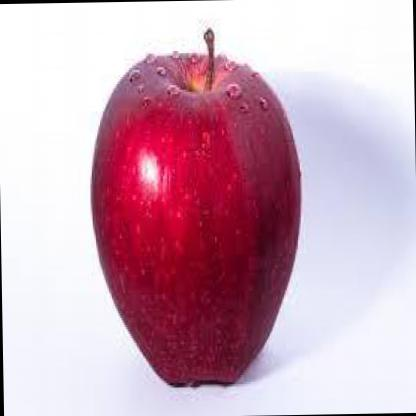apple: (85, 25, 307, 392)
